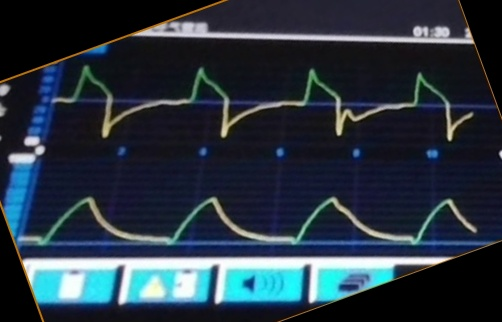Premature_cycling Flow: (63, 61, 472, 144)
Premature_cycling Volume: (34, 185, 475, 249)
